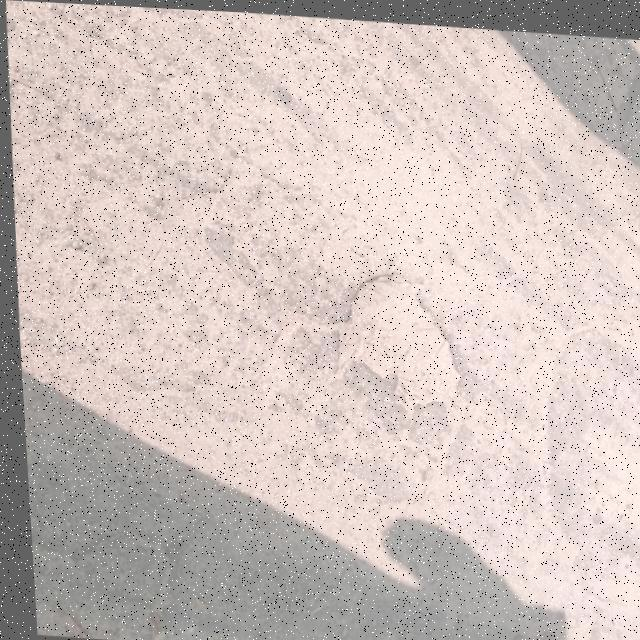pothole: (317, 247, 479, 444)
